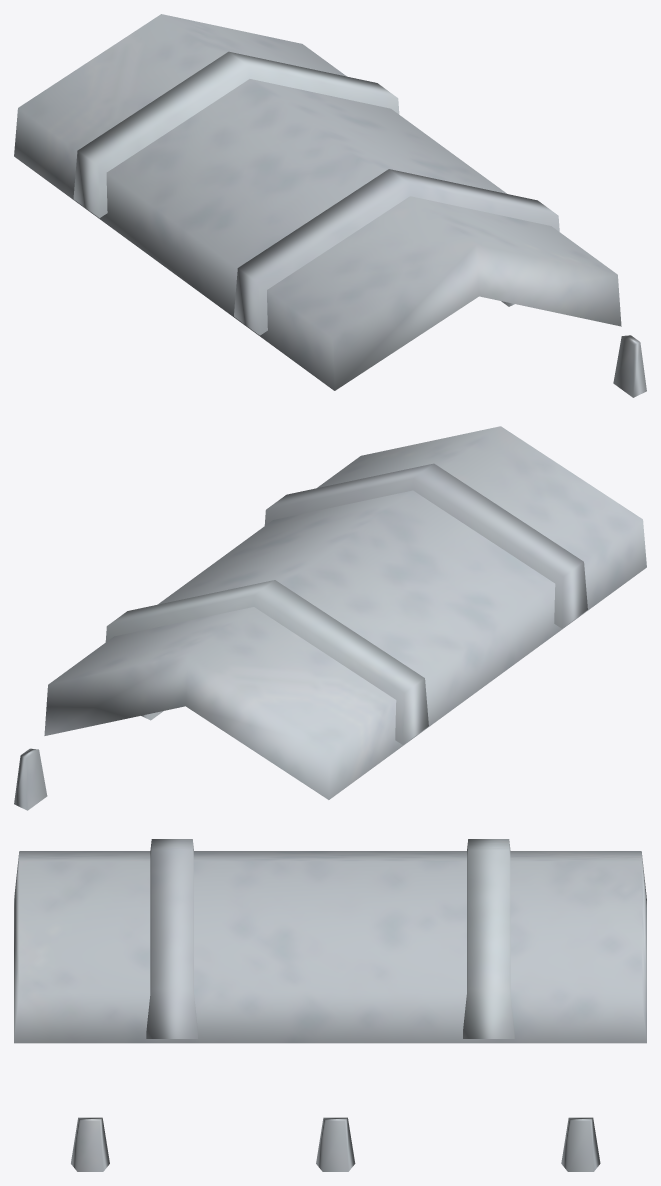
Rendered from Chest_Snow.fbx.
3 views of the same model, one above another, from view 1: azimuth 30°, elevation 25°; view 2: azimuth 150°, elevation 25°; view 3: azimuth 270°, elevation 25° (orthographic).
Visible parts, largest first — view 1: Chest_Snow; view 2: Chest_Snow; view 3: Chest_Snow.
Boxes of the visible parts, bbox=[...] form: Chest_Snow: bbox=[14, 14, 646, 397]; Chest_Snow: bbox=[14, 426, 646, 810]; Chest_Snow: bbox=[14, 839, 646, 1171].
Size of the model in its own units: 68.24 by 42.29 by 108.
